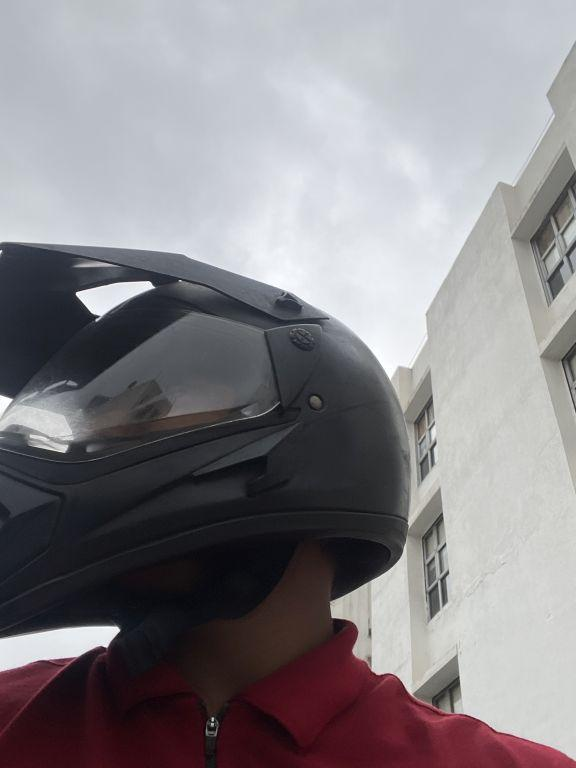helmet: (0, 197, 414, 659)
